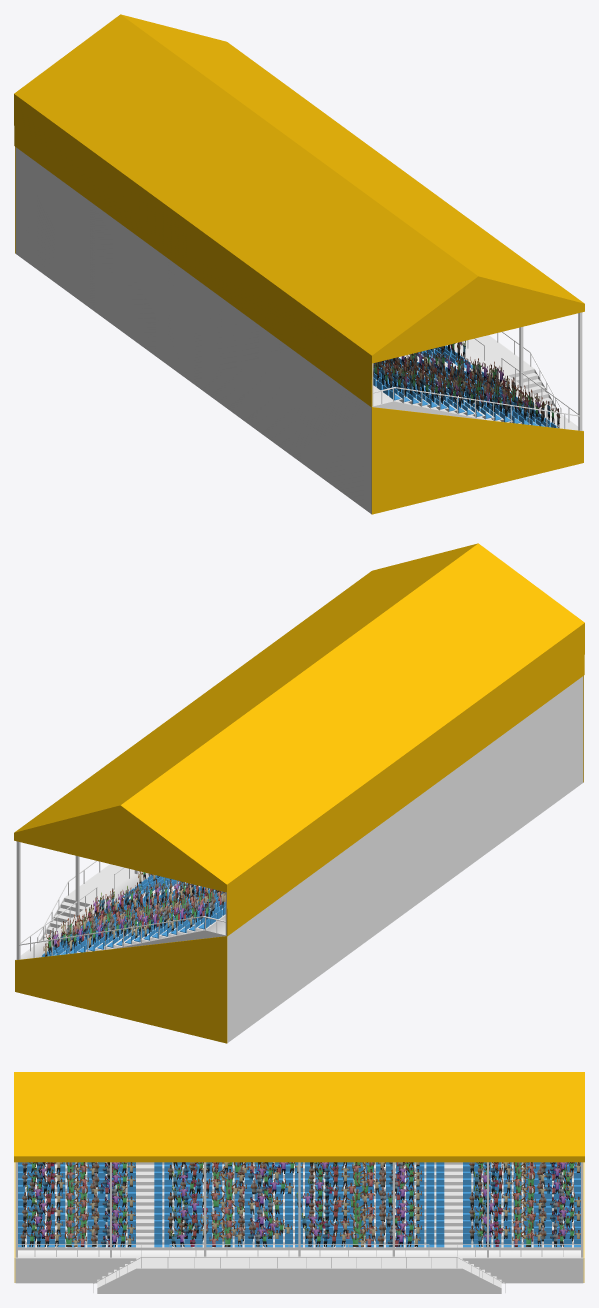
The model's file is Tribune_1_Spectator.fbx.
3 views of the same model, one above another, from view 1: azimuth 30°, elevation 25°; view 2: azimuth 150°, elevation 25°; view 3: azimuth 270°, elevation 25° (orthographic). The views are drawn at different scales.
Visible parts, largest first — view 1: Tribune_3_Spectator; view 2: Tribune_3_Spectator; view 3: Tribune_3_Spectator.
Part boxes in pixels (left/top/right/bottom): Tribune_3_Spectator: left=14, top=14, right=584, bottom=514; Tribune_3_Spectator: left=14, top=543, right=584, bottom=1043; Tribune_3_Spectator: left=14, top=1072, right=584, bottom=1293.
Size of the model in its own units: 2198 by 1863 by 5678.
